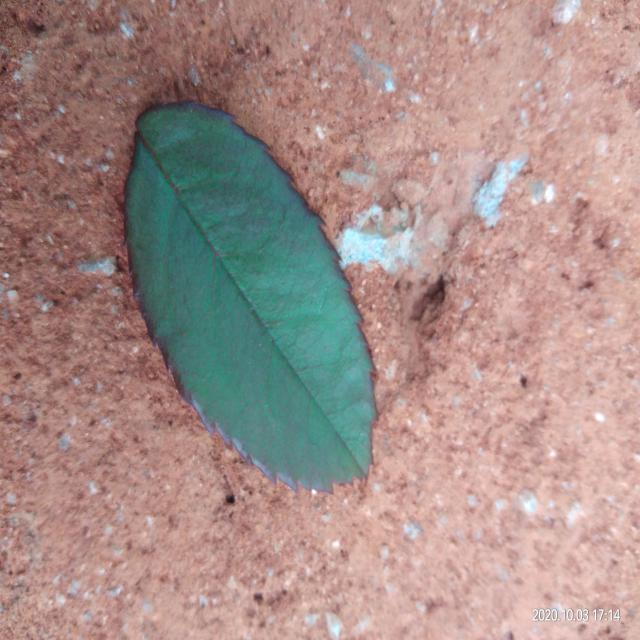rose: (125, 102, 376, 492)
